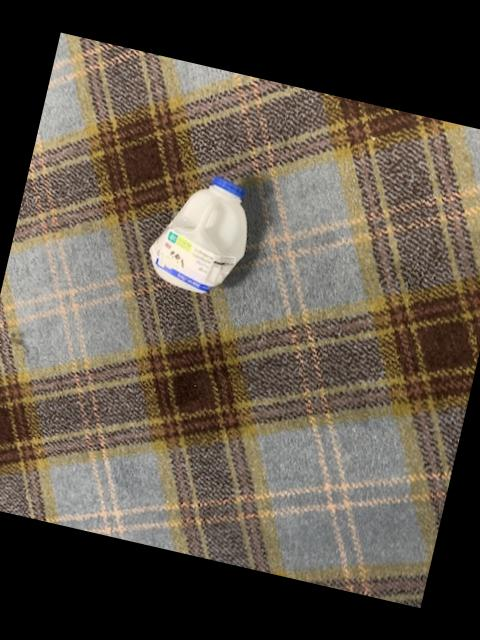plastic: (150, 178, 246, 293)
